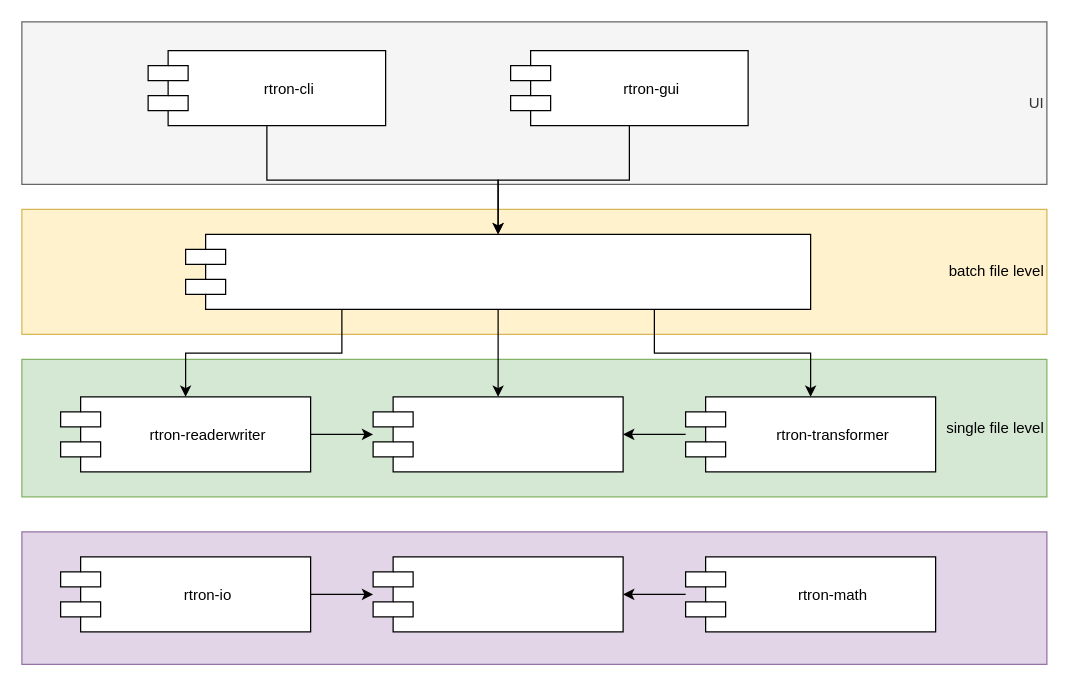
Some shapes in this 1069 by 686 pixel diagram are drawn without their labels. Each missing label, with the box of its shape:
rtron-main: (184, 233, 811, 309)
rtron-model: (372, 396, 623, 472)
rtron-std: (372, 556, 623, 632)
utility level: (21, 531, 1047, 664)
